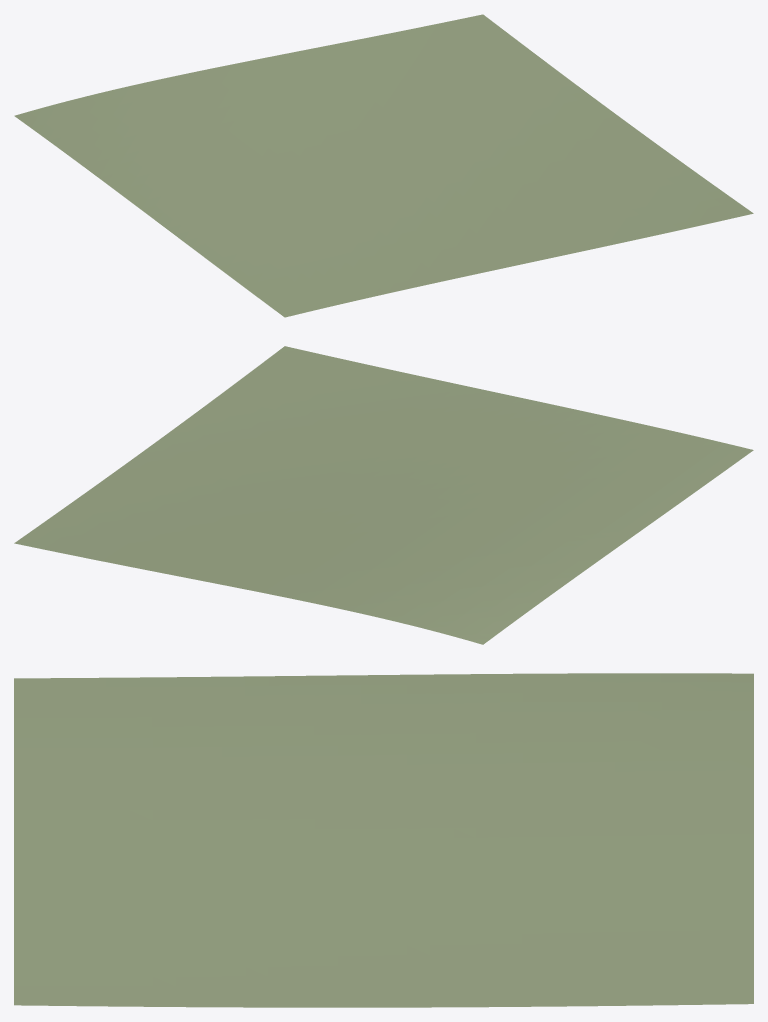
File: expanse-6-30.glb
The picture shows the model from 3 angles, top to bottom: view 1: azimuth 30°, elevation 25°; view 2: azimuth 150°, elevation 25°; view 3: azimuth 270°, elevation 25°; orthographic projection. The views are drawn at different scales.
Visible parts, largest first — view 1: expanse-6-30; view 2: expanse-6-30; view 3: expanse-6-30.
Part boxes in pixels (x1,y1,x2,y2): expanse-6-30: (14, 14, 753, 317); expanse-6-30: (14, 346, 753, 644); expanse-6-30: (14, 673, 753, 1007).
Size of the model in its own units: 256 by 9.12 by 256.
